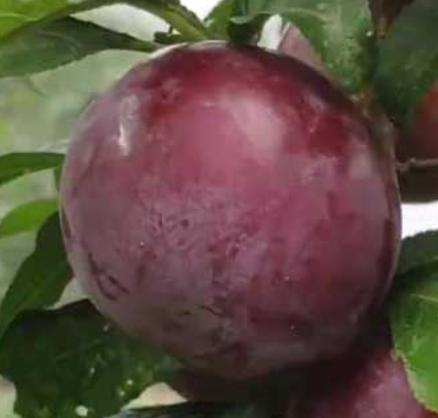plum_A: (59, 41, 403, 382)
